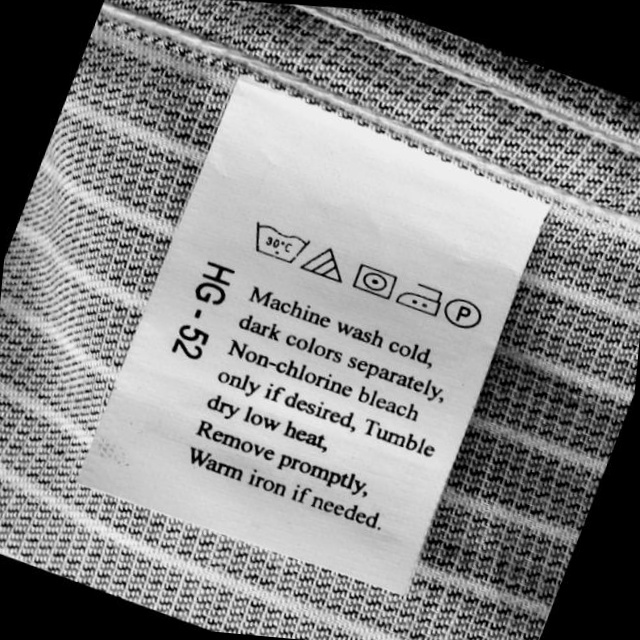30C: (246, 219, 312, 268)
dry_clean_any_solvent_except_trichloroethylene: (442, 294, 482, 332)
iron_medium: (394, 275, 446, 319)
non_chlorine_bleach: (298, 242, 346, 285)
tumble_dry_low: (348, 259, 400, 301)
